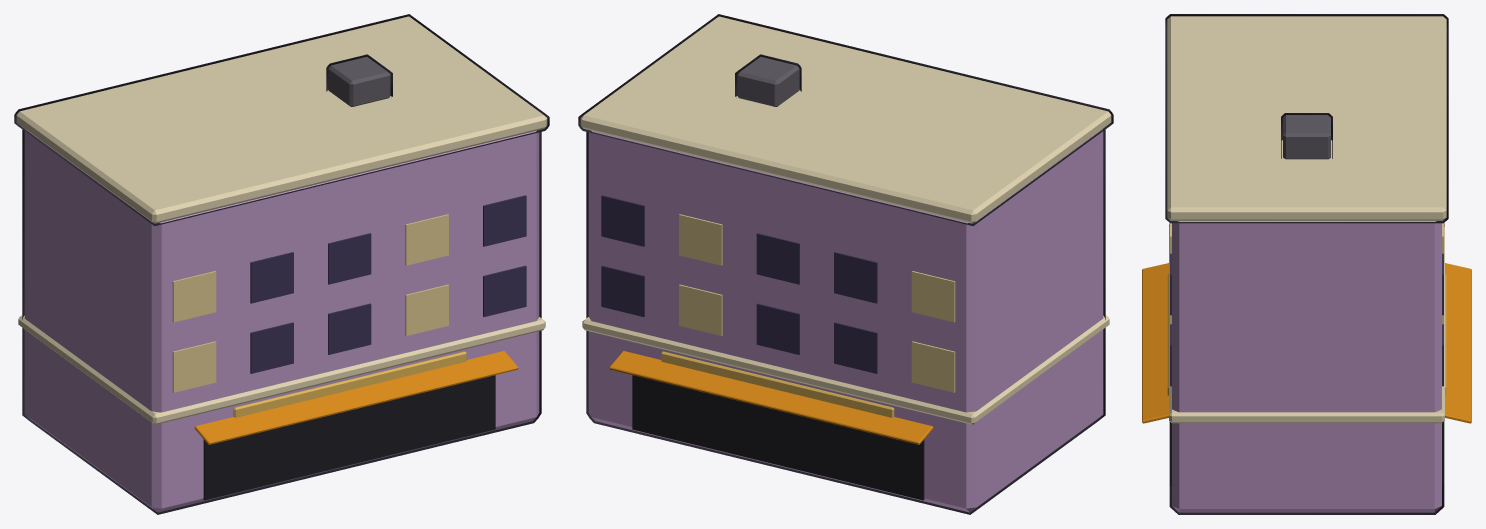
The model's file is building_c.glb.
3 views of the same model, side by side, from view 1: azimuth 30°, elevation 25°; view 2: azimuth 150°, elevation 25°; view 3: azimuth 270°, elevation 25° (orthographic).
Parts seen in each view (by area): view 1: building_c; view 2: building_c; view 3: building_c.
Boxes of the visible parts, x1=… form: building_c: x1=14, y1=14, x2=549, y2=514; building_c: x1=578, y1=14, x2=1113, y2=514; building_c: x1=1142, y1=14, x2=1471, y2=514.
Size of the model in its own units: 15.44 by 12.44 by 10.98.
